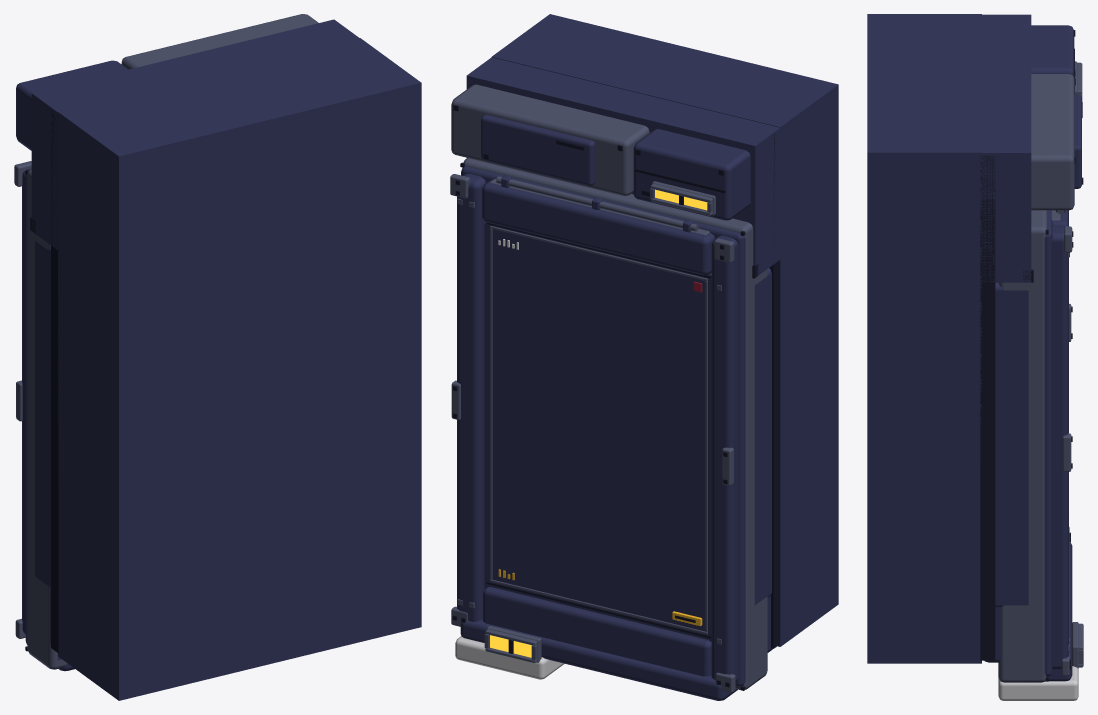
File: hull.bay.livery.navy.none.louvre.w2.000.s2.k-2.2.glb
3 views of the same model, side by side, from view 1: azimuth 30°, elevation 25°; view 2: azimuth 150°, elevation 25°; view 3: azimuth 270°, elevation 25° (orthographic). The views are drawn at different scales.
Visible parts, largest first — view 1: hull.bay.livery.navy.none.louvre.w2.000.s2.k-2.2; view 2: hull.bay.livery.navy.none.louvre.w2.000.s2.k-2.2; view 3: hull.bay.livery.navy.none.louvre.w2.000.s2.k-2.2.
Boxes of the visible parts, left/top/right/bottom form: hull.bay.livery.navy.none.louvre.w2.000.s2.k-2.2: left=14, top=14, right=421, bottom=700; hull.bay.livery.navy.none.louvre.w2.000.s2.k-2.2: left=450, top=14, right=838, bottom=700; hull.bay.livery.navy.none.louvre.w2.000.s2.k-2.2: left=867, top=14, right=1083, bottom=700.
Size of the model in its own units: 2 by 3.74 by 1.32.
